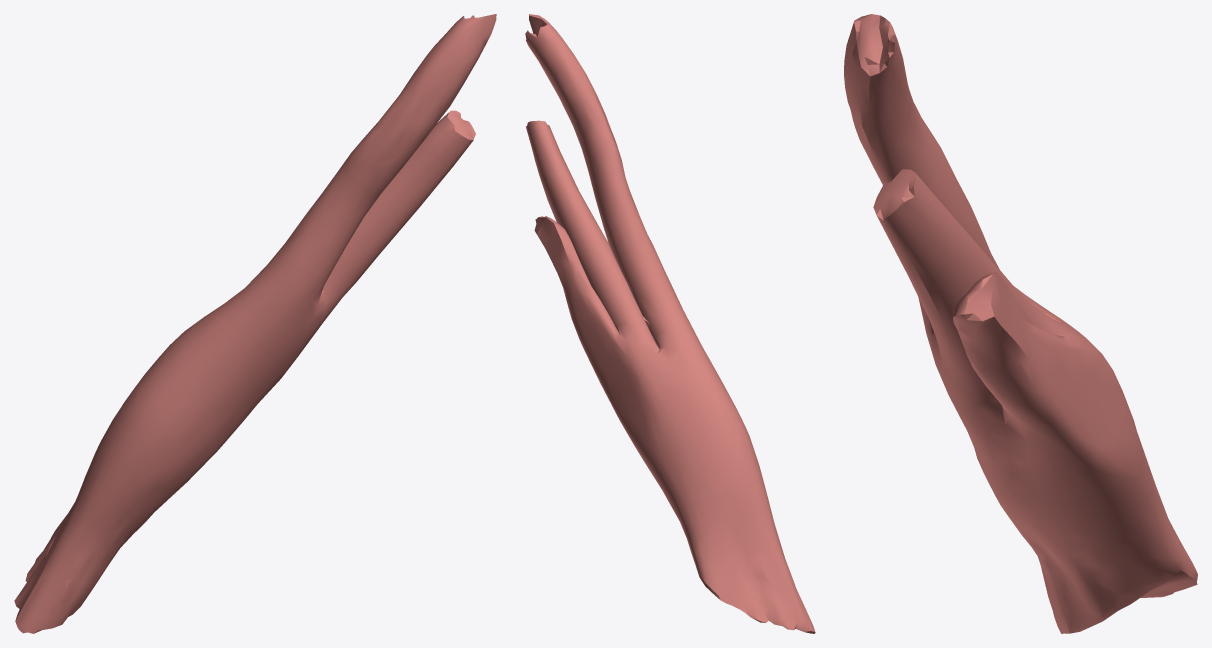
The model's file is fma13388_mm1297m.glb.
3 renders of one model, left to right at view 1: azimuth 30°, elevation 25°; view 2: azimuth 150°, elevation 25°; view 3: azimuth 270°, elevation 25°, orthographic. The views are drawn at different scales.
Visible parts, largest first — view 1: FMA13388_MM1297M; view 2: FMA13388_MM1297M; view 3: FMA13388_MM1297M.
Part boxes in pixels (bbox=[...]): FMA13388_MM1297M: bbox=[14, 14, 496, 633]; FMA13388_MM1297M: bbox=[525, 14, 815, 633]; FMA13388_MM1297M: bbox=[844, 14, 1197, 633].
Size of the model in its own units: 0.0471 by 0.0636 by 0.023.
